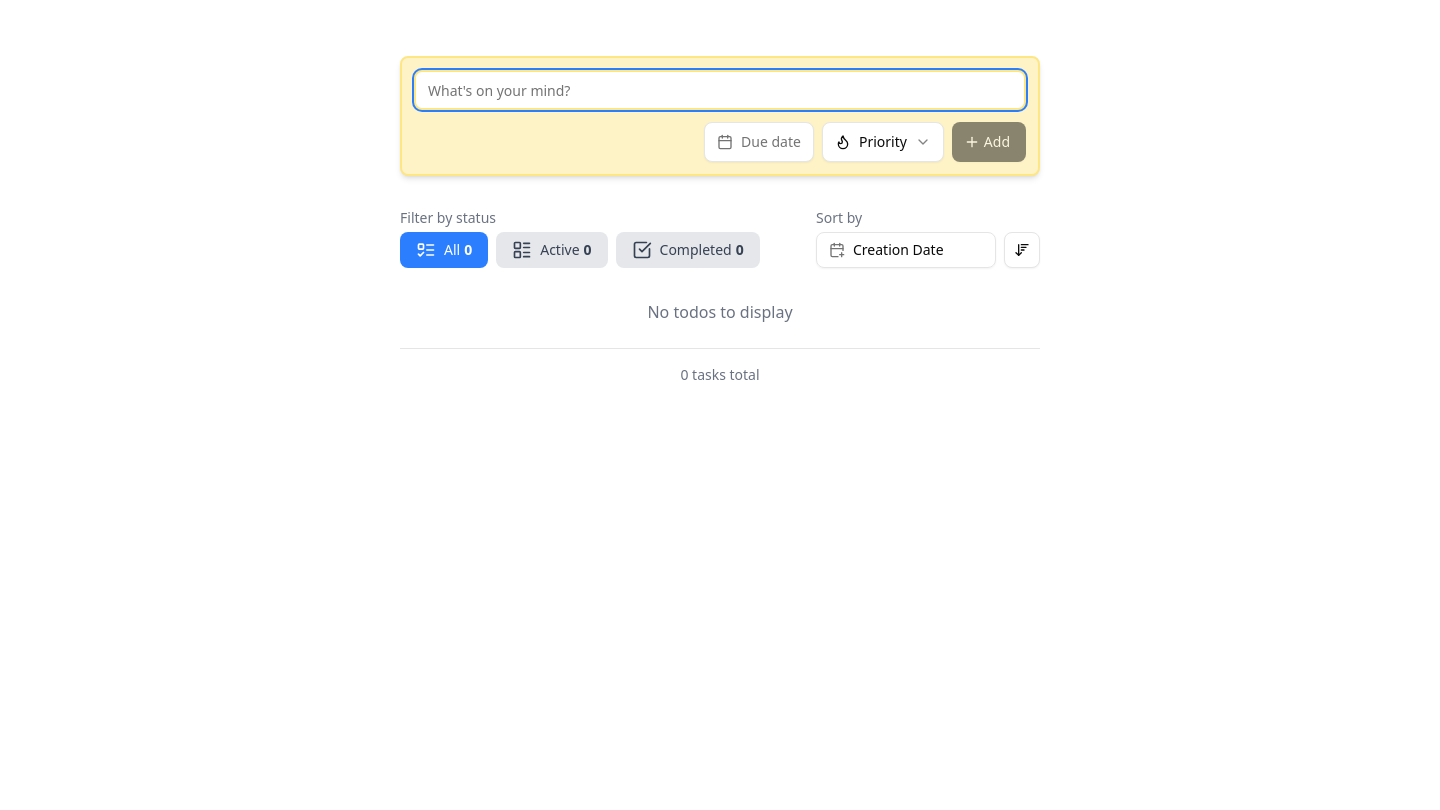
it: TodoContainer Component - Integration Tests › Todo Interaction › should be able to delete one of multiple todos
Step 1. Type "Keep this todo" into the field with placeholder "What's on your mind?" → (720, 90), box [414,70,1026,110]
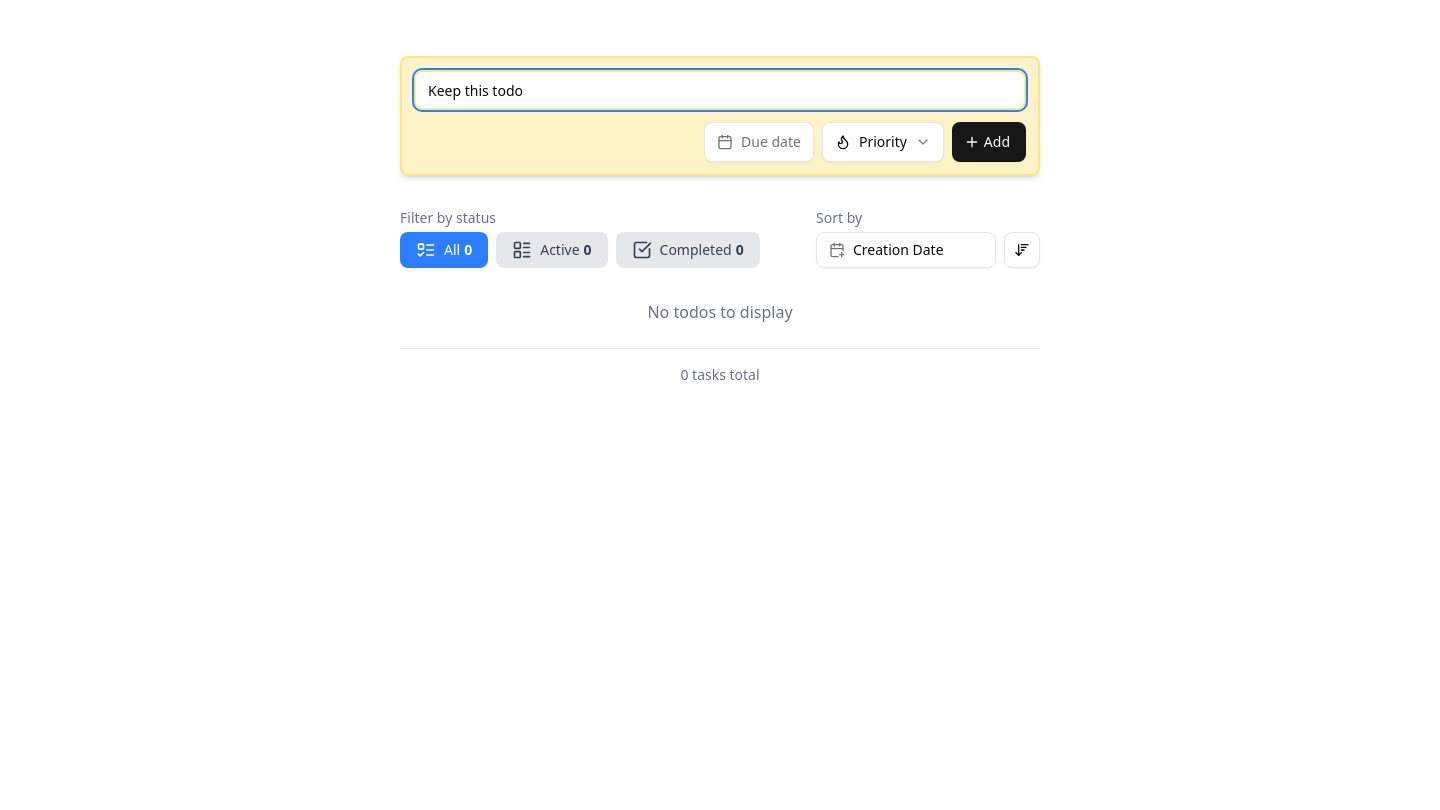
Step 2. Click the button "Add" → (989, 142), box [952,122,1026,162]
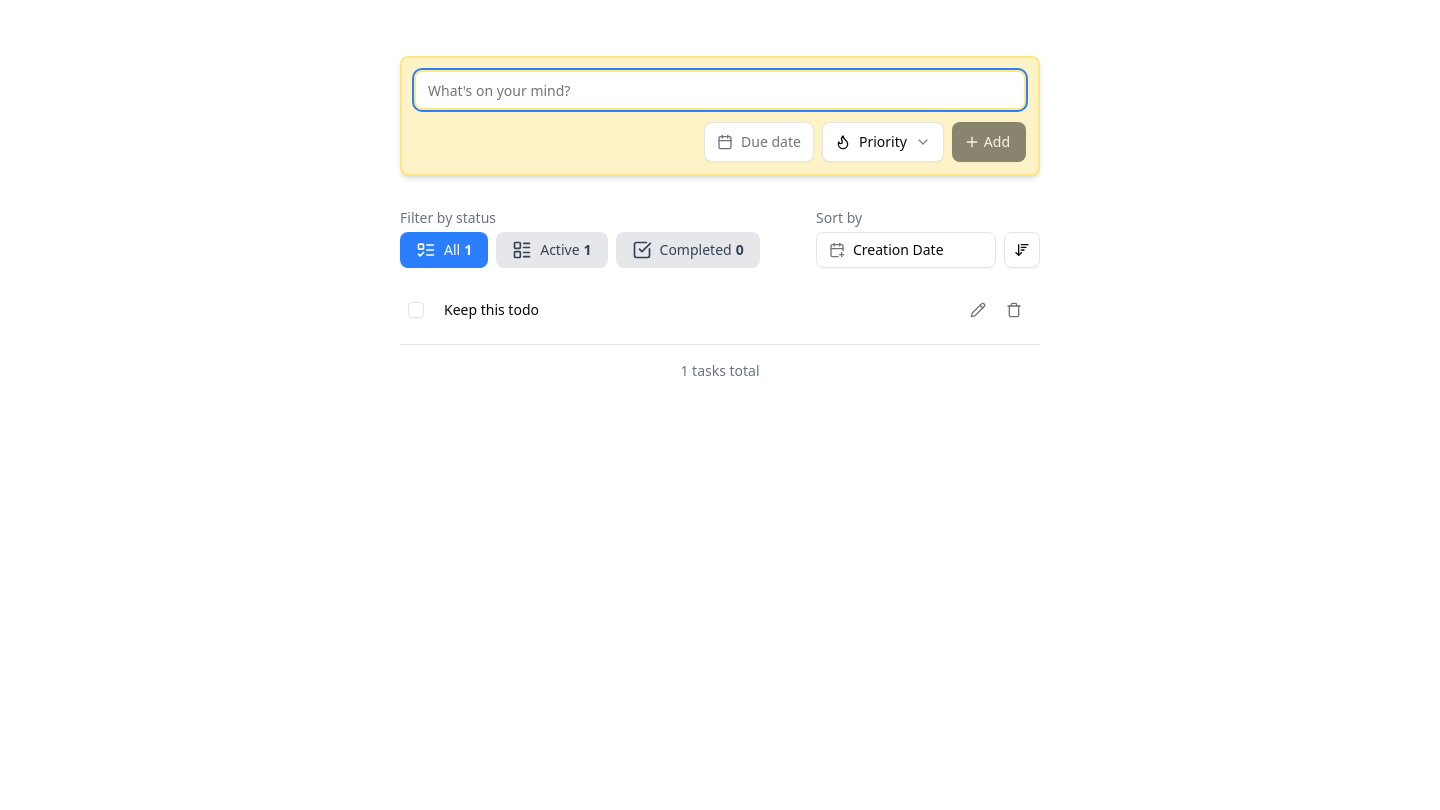
Step 3. Type "Delete this todo" into the field with placeholder "What's on your mind?" → (720, 90), box [414,70,1026,110]
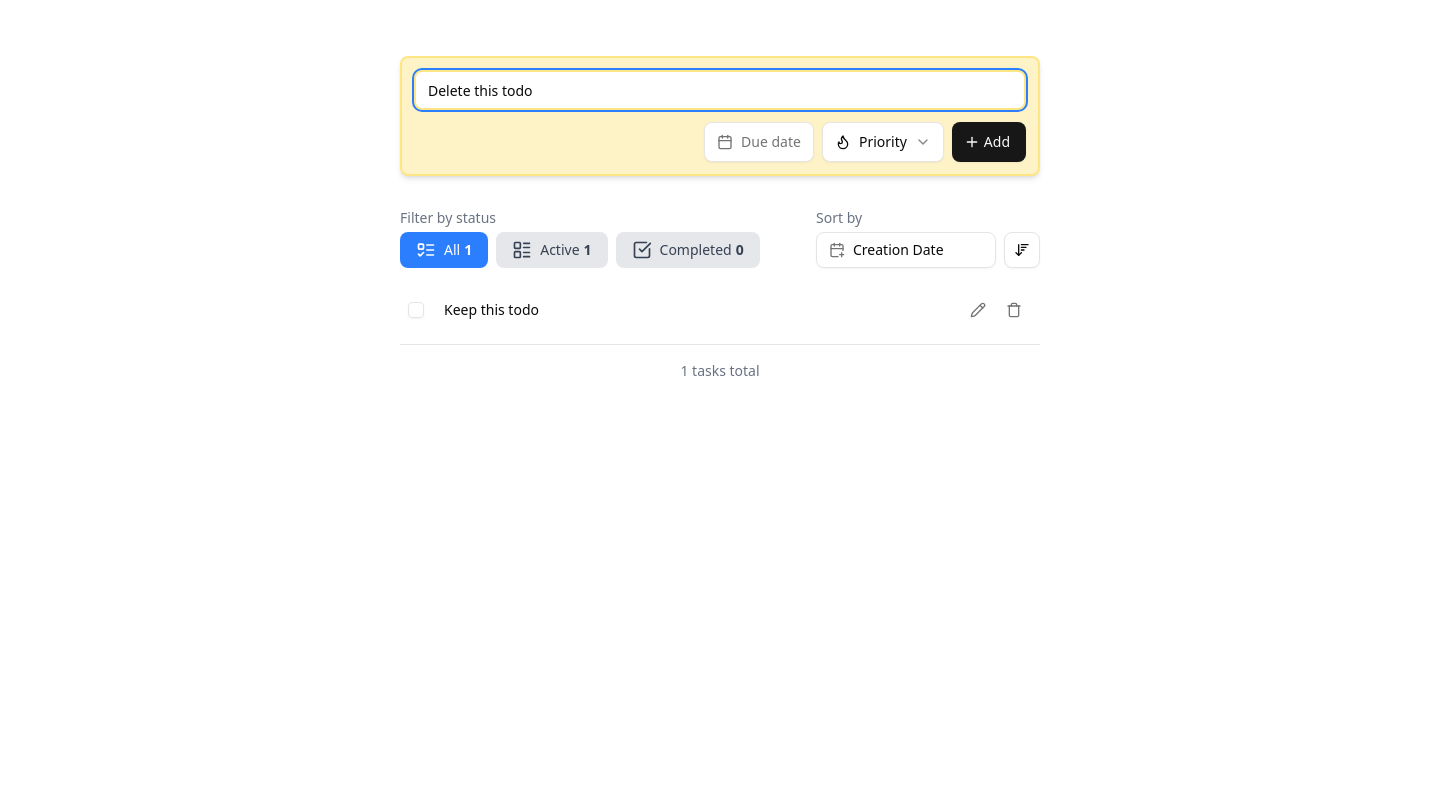
Step 4. Click the button "Add" → (989, 142), box [952,122,1026,162]
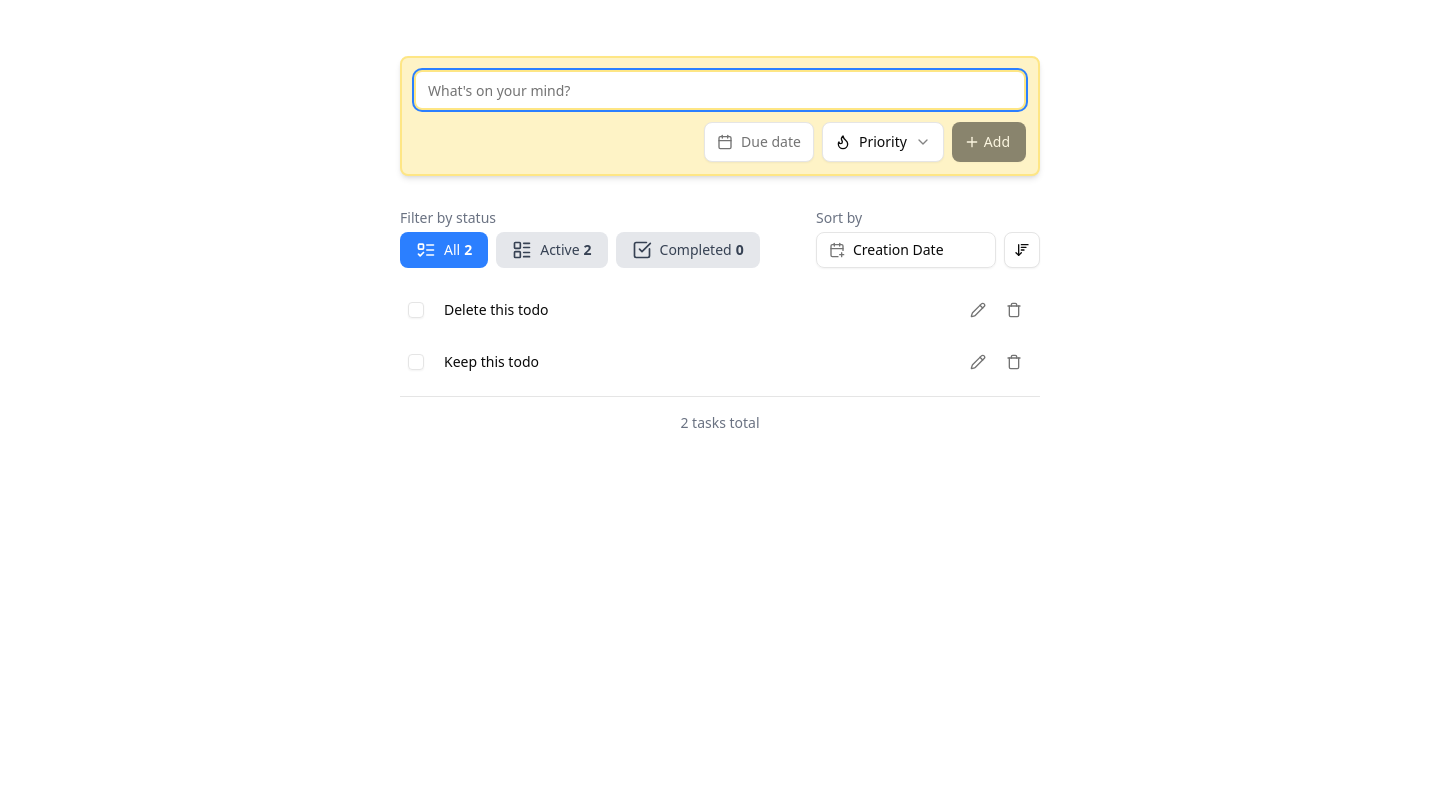
Expected: the text "Keep this todo" is shown, [444,352,539,372]
Expected: the text "Delete this todo" is shown, [444,300,548,320]
Expected: the text "2 tasks total" is shown, [680,413,760,432]
Step 5. Click the button with test id "delete-todo-trigger" → (1014, 310), box [996,292,1032,328]
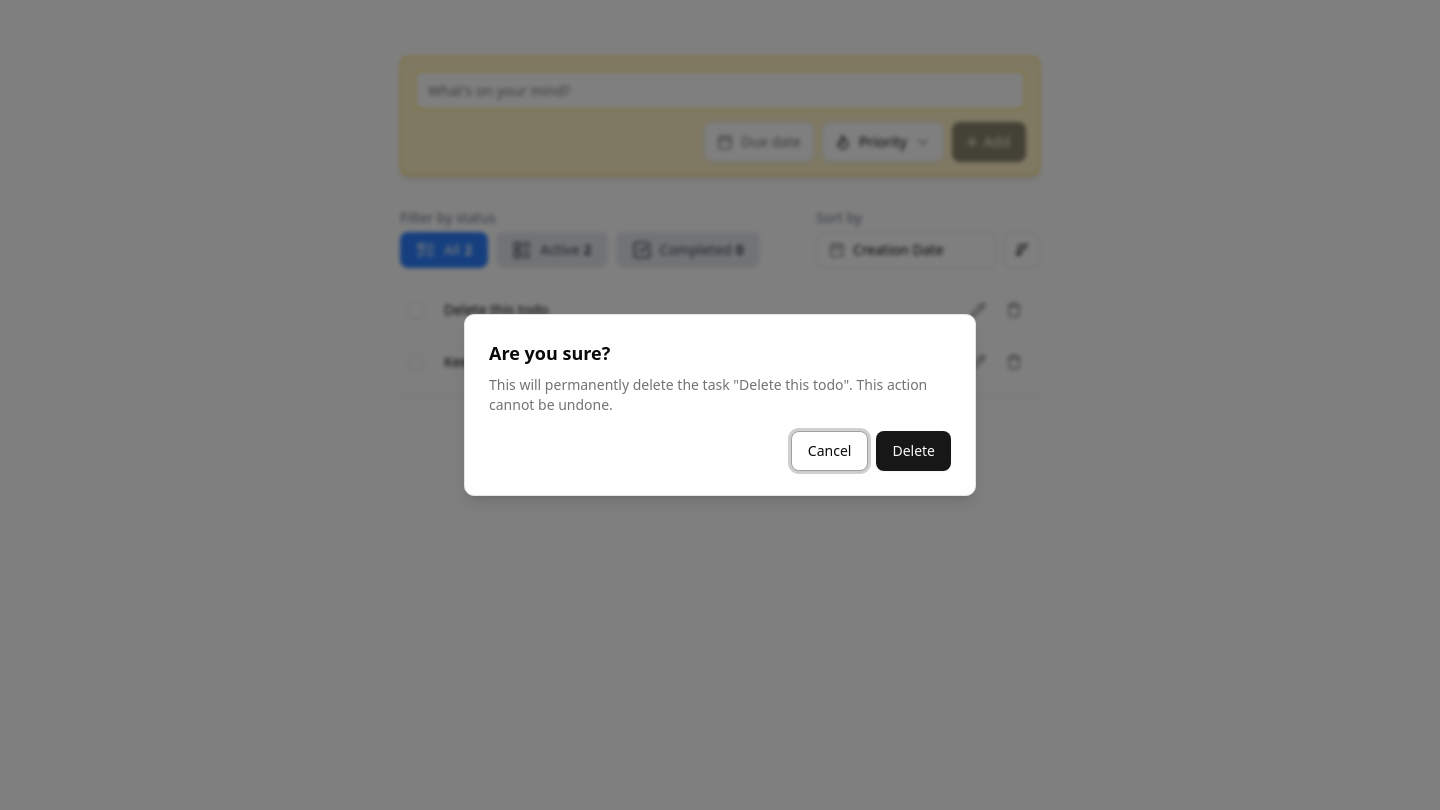
# The confirm button is clicked
Step 6. Click the button with test id "confirm-delete-todo" → (914, 451), box [876,431,951,471]
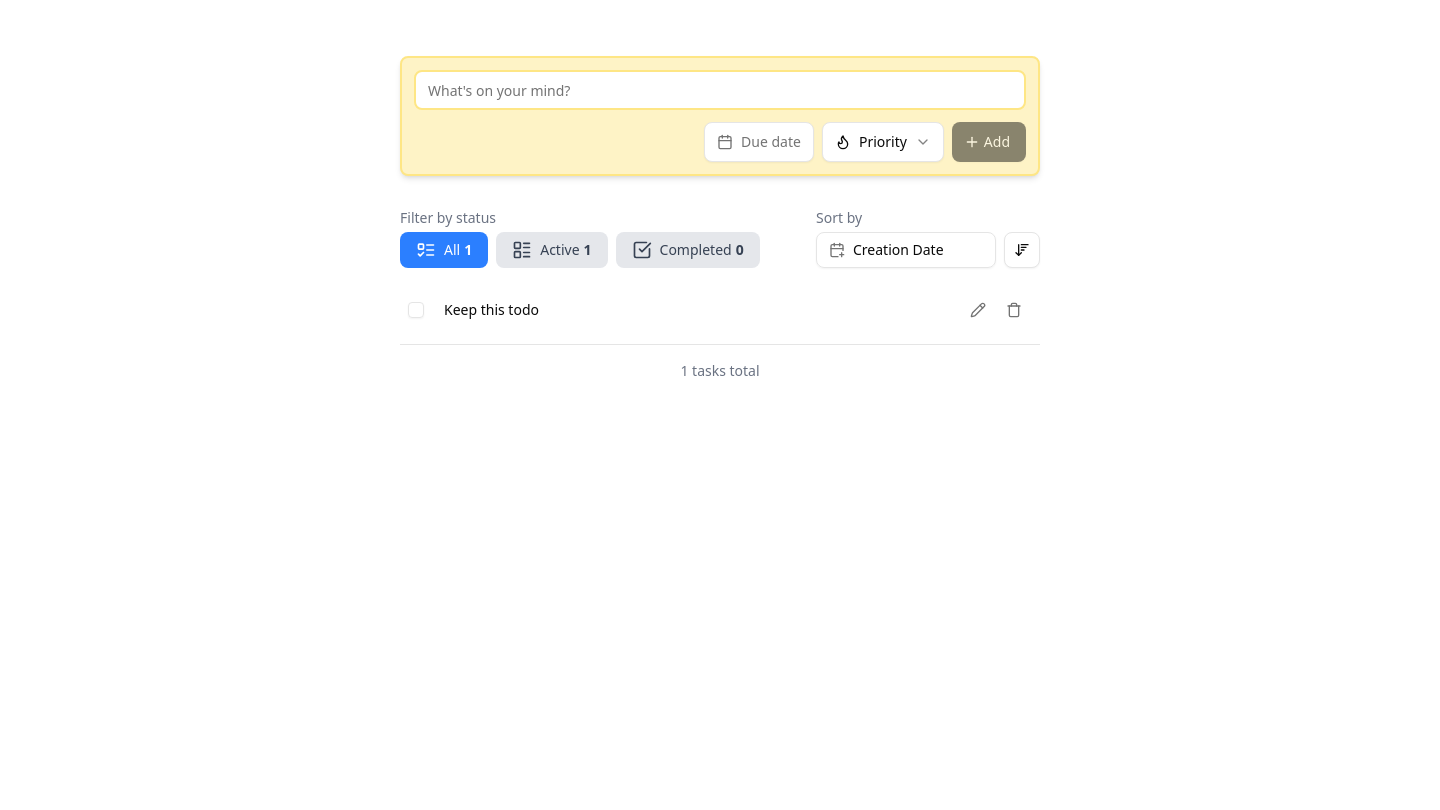
Expected: the text "Keep this todo" is shown, [444,300,539,320]
Expected: the button "Delete this todo" is gone
Expected: the text "1 tasks total" is shown, [680,361,760,380]
